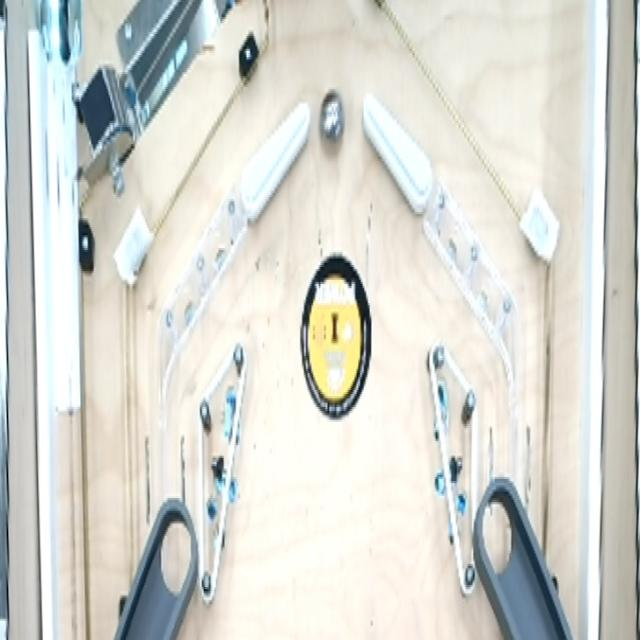ball: (320, 82, 346, 150)
flipper-left: (358, 86, 434, 220)
flipper-right: (238, 96, 312, 229)
